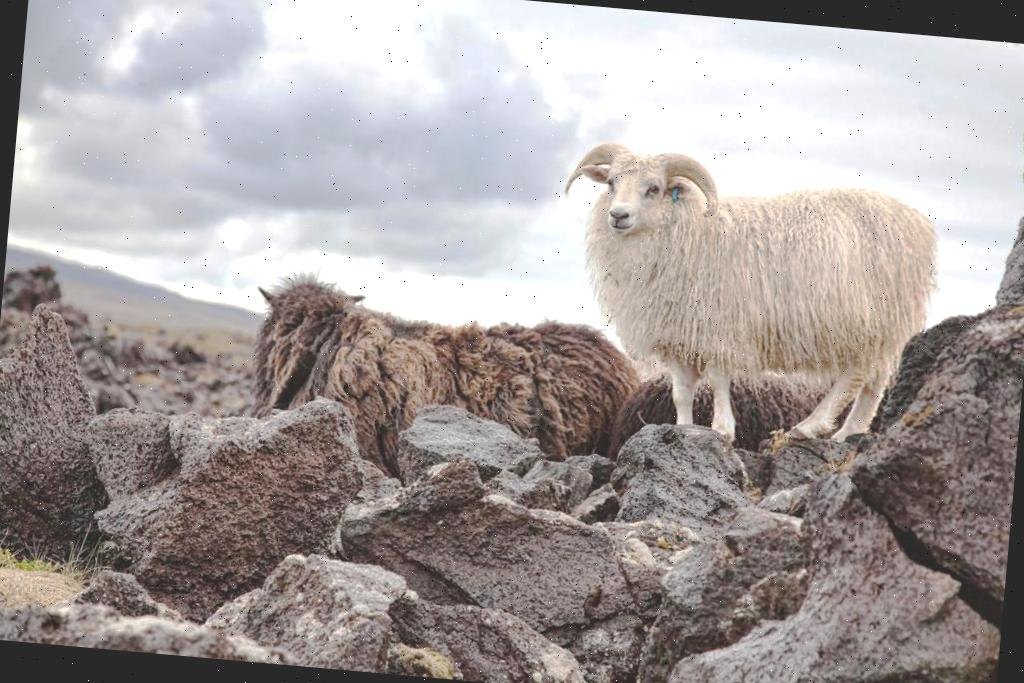Sheep: (544, 130, 952, 466), (240, 272, 651, 504)
